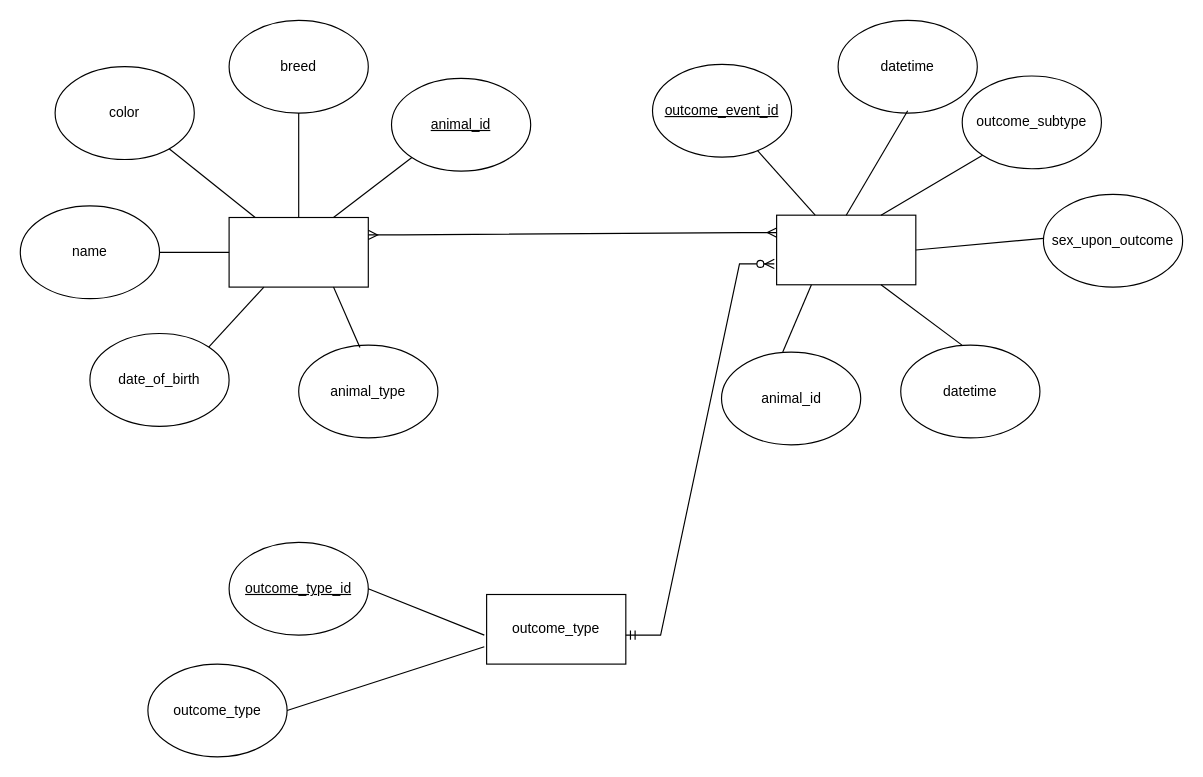
Some shapes in this 1203 by 777 pixel diagram are drawn without their labels. Each missing label, with the box of its shape:
Animal: (228, 216, 368, 287)
outcome_events: (775, 214, 916, 285)
